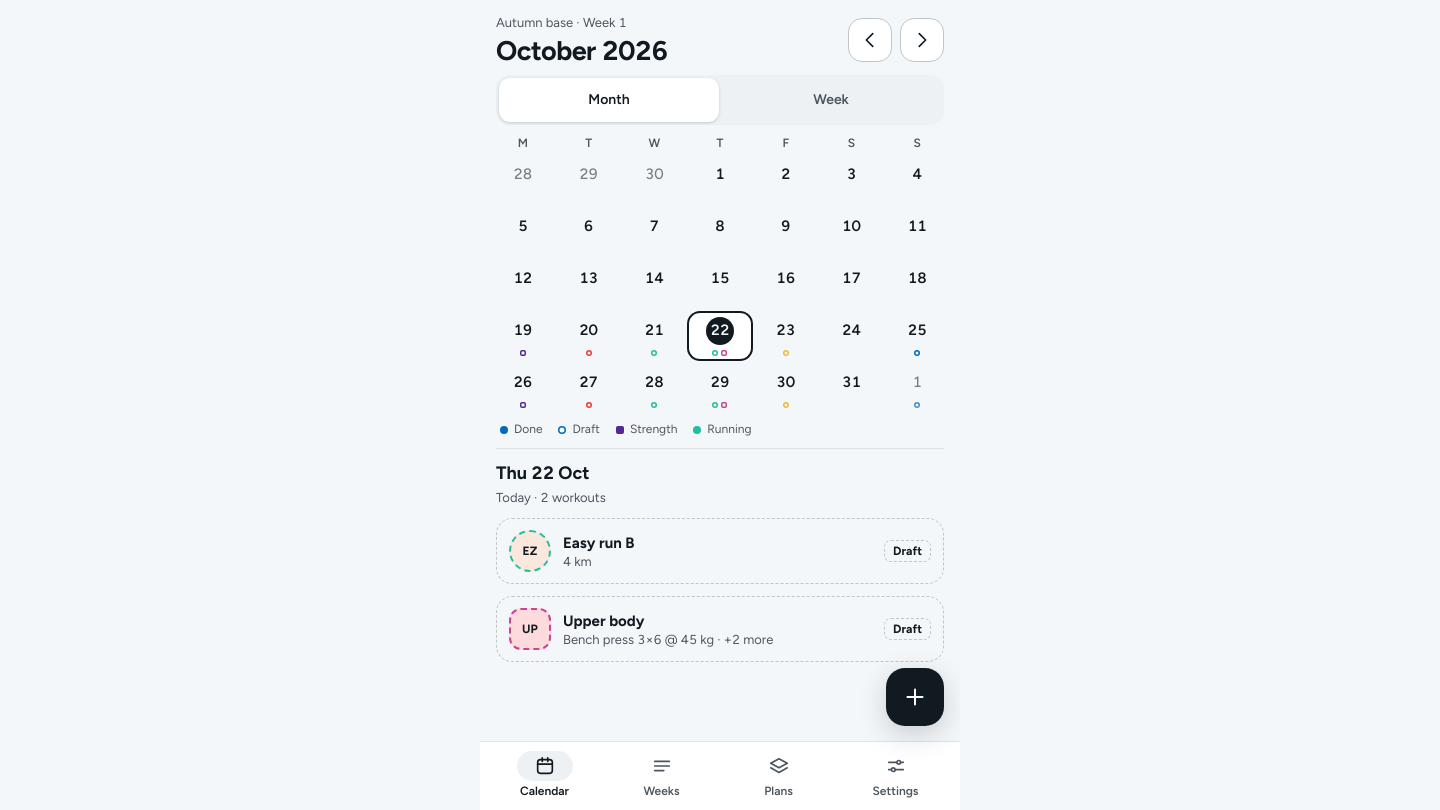
Scenario: edit, move, delete and reset › moves a workout to another day of its week and keeps its values
The width and height of the screenshot is (1440, 810).
expect the heading "October 2026" is shown: met, box [496,34,668,66]
Click the button "EZ Easy run B 4 km Draft" at (530, 551), box [509,530,931,574]
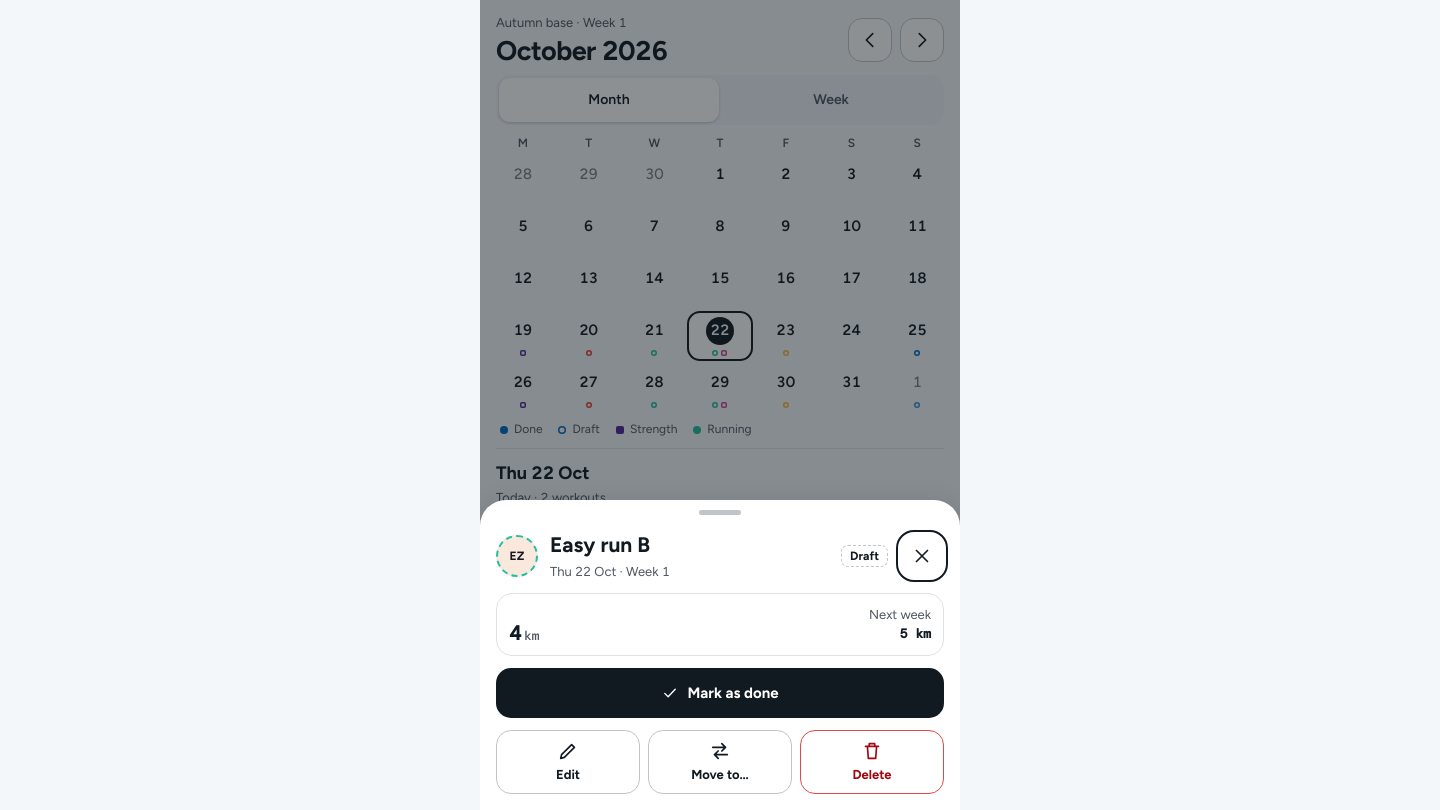
Click the button "Move to…" at (720, 762), box [648,730,792,794]
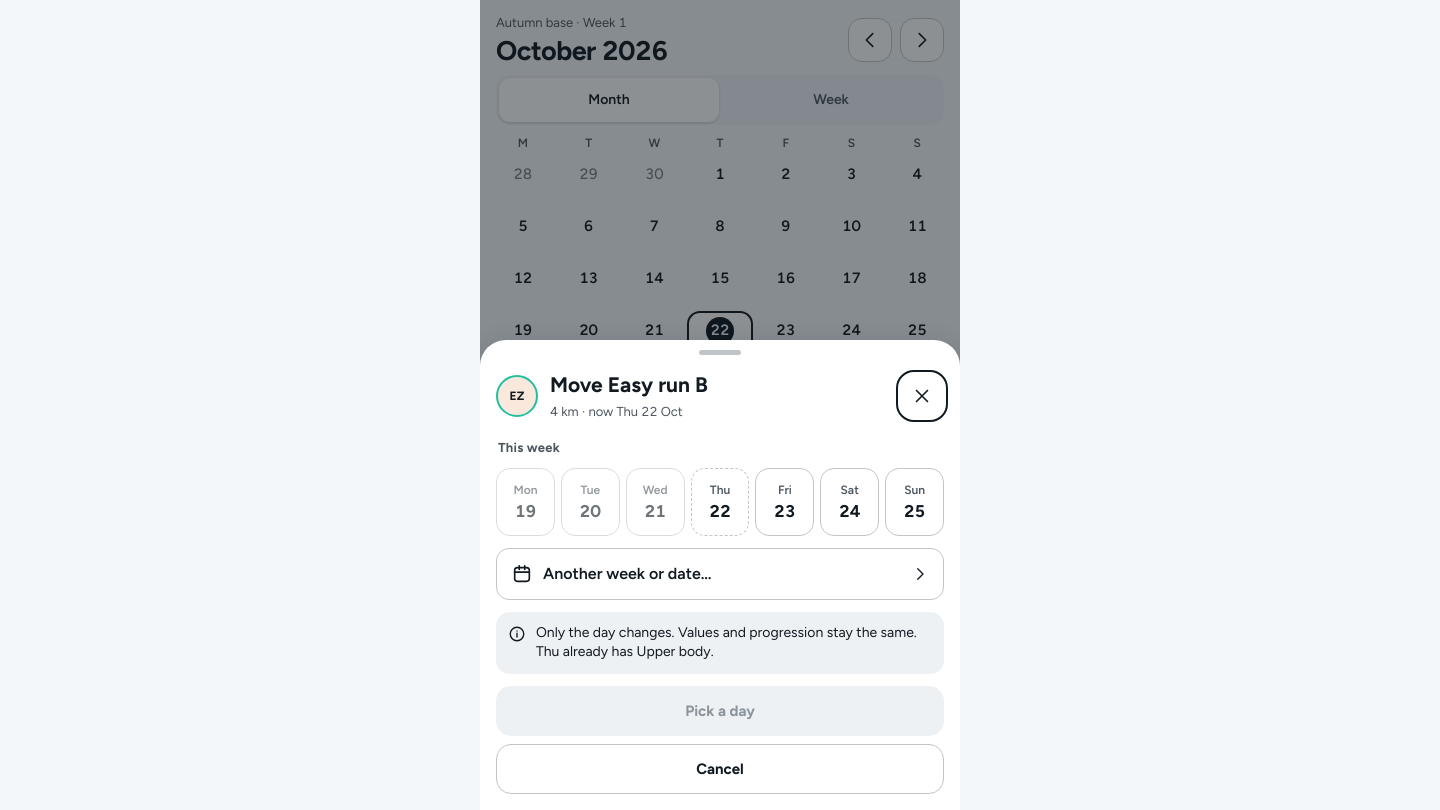
Click the button with aria-label "Fri 23 Oct" at (785, 502), box [755,468,814,536]
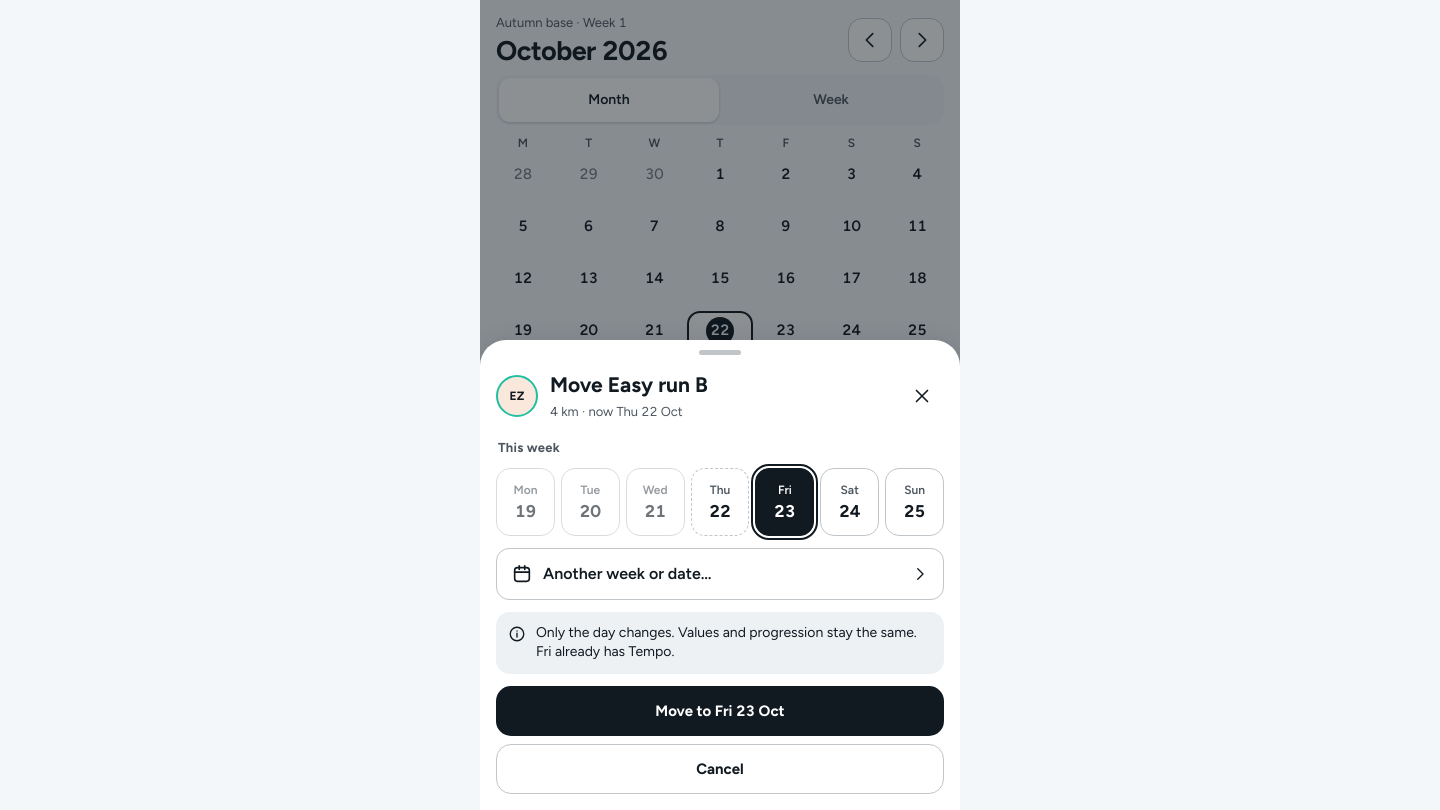
expect the text "Fri already has Tempo." is shown: met, box [536,643,674,660]
Click the button "Move to Fri 23 Oct" at (720, 711), box [496,686,944,736]
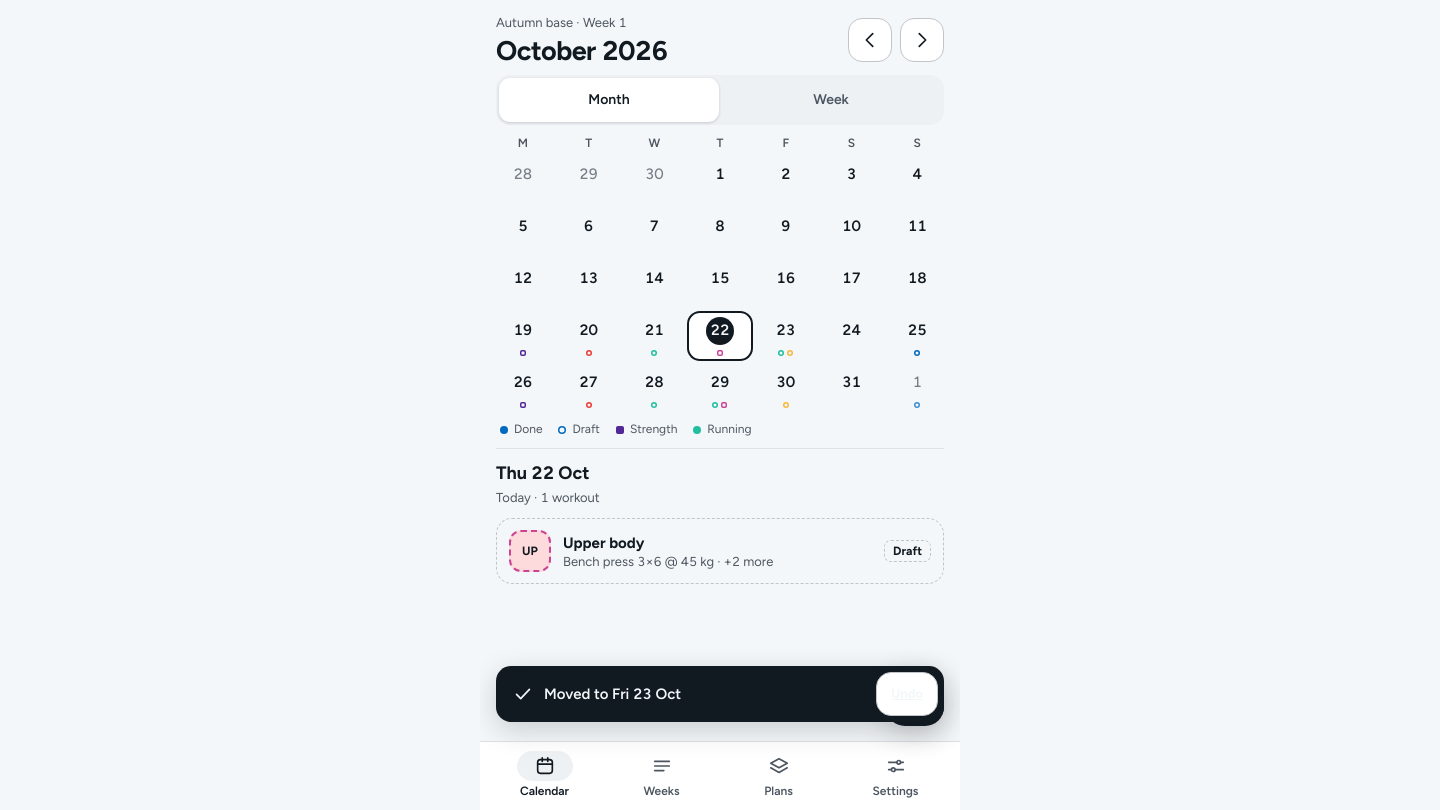
expect the text "Moved to Fri 23 Oct" is shown: met, box [544,684,681,704]
expect the text "Today · 1 workout" is shown: met, box [496,490,600,505]
